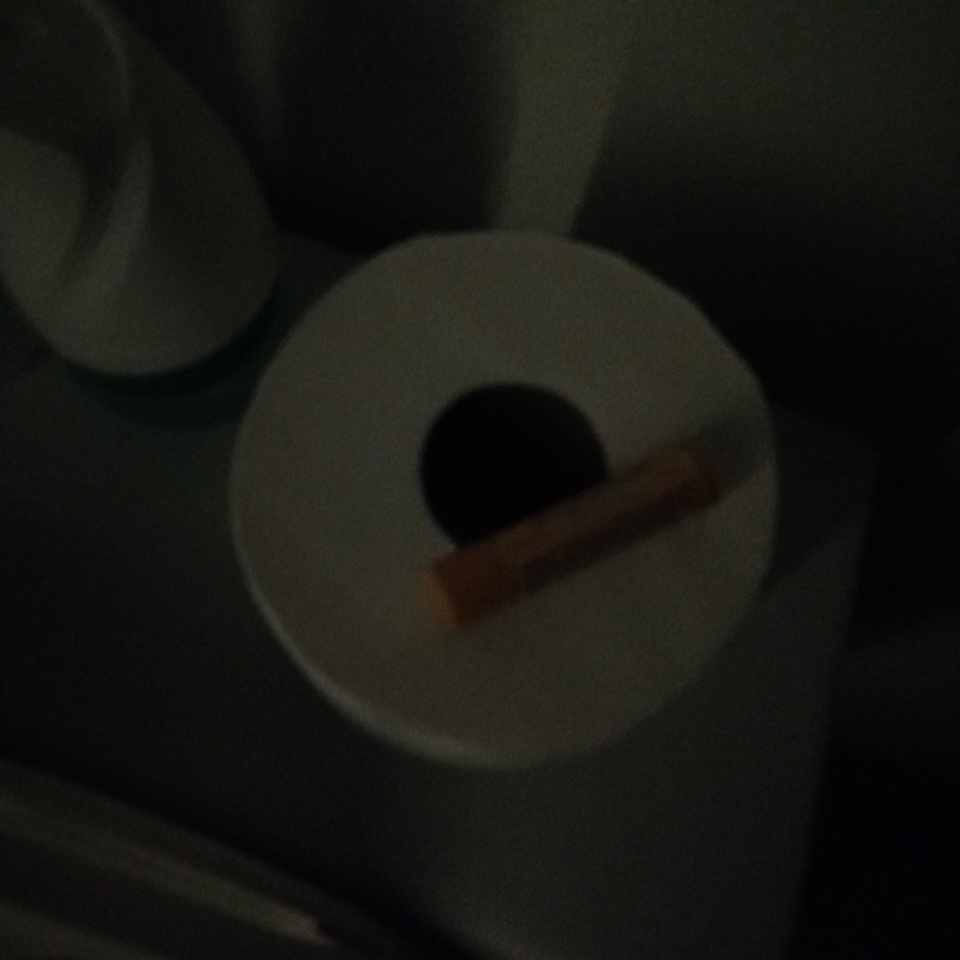chapstick: (420, 444, 717, 631)
